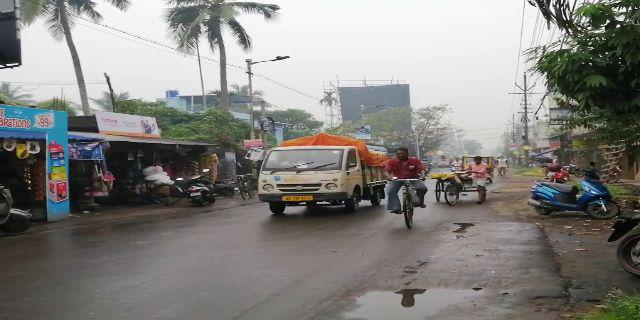Cycle: (379, 149, 428, 237)
Minitruck: (256, 146, 376, 211)
Motorbike: (527, 172, 621, 225)
